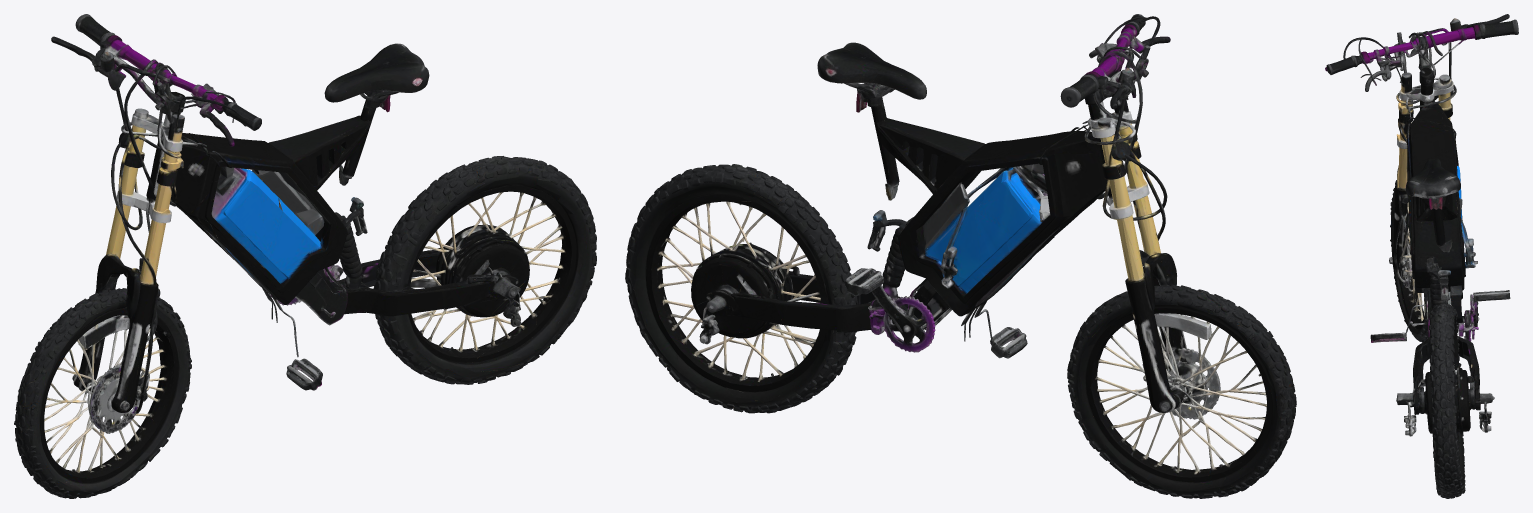
File: bike-3d.glb
The picture shows the model from 3 angles, left to right: view 1: azimuth 30°, elevation 25°; view 2: azimuth 150°, elevation 25°; view 3: azimuth 270°, elevation 25°; orthographic projection. The views are drawn at different scales.
Visible parts, largest first — view 1: output_unwrapped; view 2: output_unwrapped; view 3: output_unwrapped.
Boxes of the visible parts, x1,y1,x2,y2 form: output_unwrapped: (14,14,596,498); output_unwrapped: (625,14,1296,498); output_unwrapped: (1325,14,1518,498).
Bounding box in the file's own units: 1.9 × 1.27 × 0.6714.
1 material, 1 textured.
